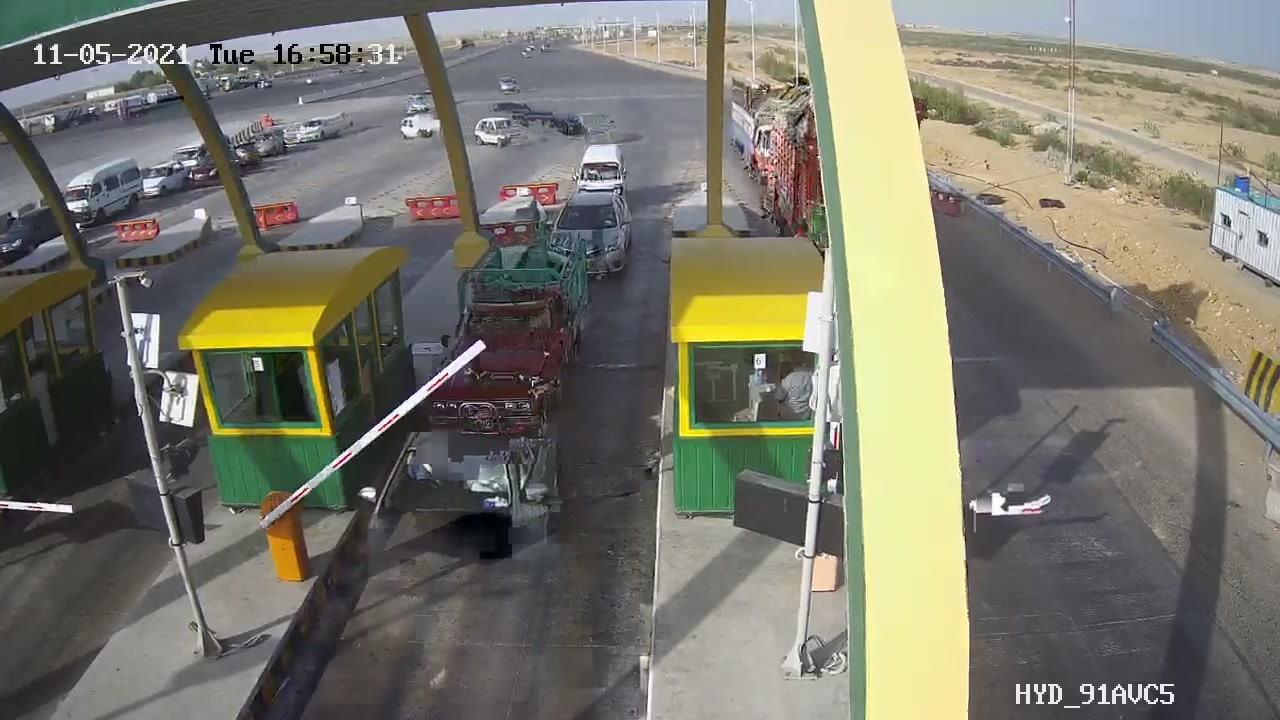F1: (533, 184, 652, 289)
